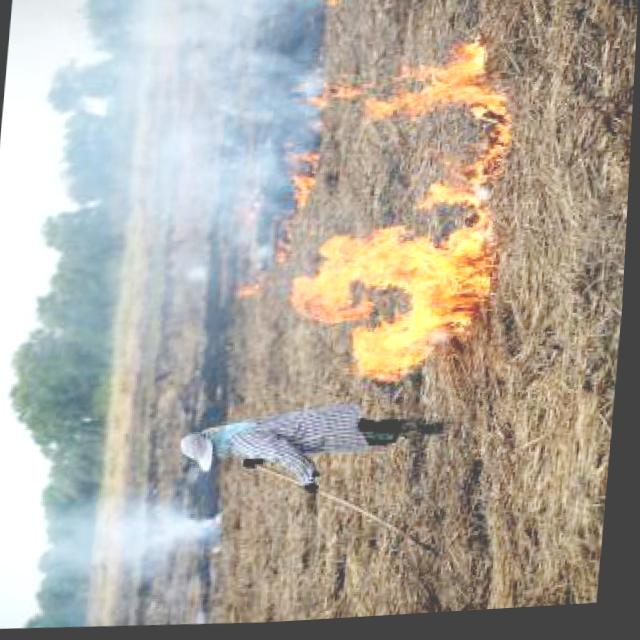Fire: (271, 37, 521, 406), (232, 144, 322, 311)
Smoke: (90, 0, 321, 237), (44, 489, 235, 582)
